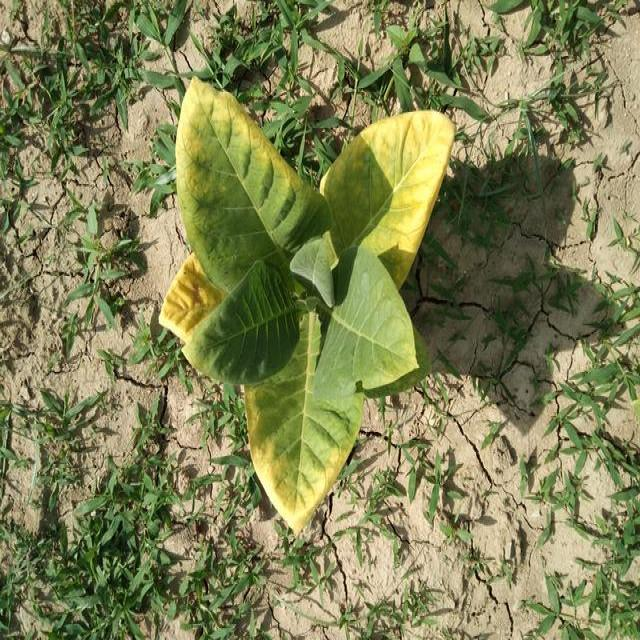crop: (157, 70, 456, 534)
